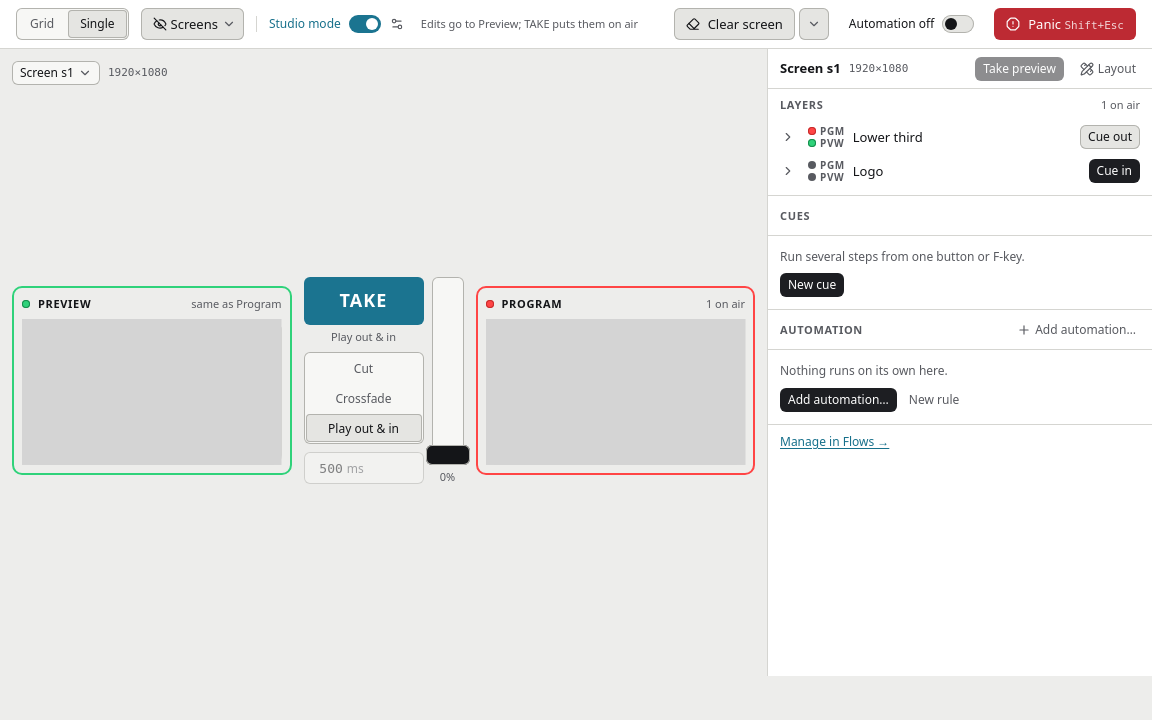
Test: Studio mode switch › a refusal because of a Preview it didn't know yet asks too
This screenshot has width=1152, height=720.
Click the switch named "Studio mode" next to "Studio mode".
click(365, 24)  # box [349,15,381,33]
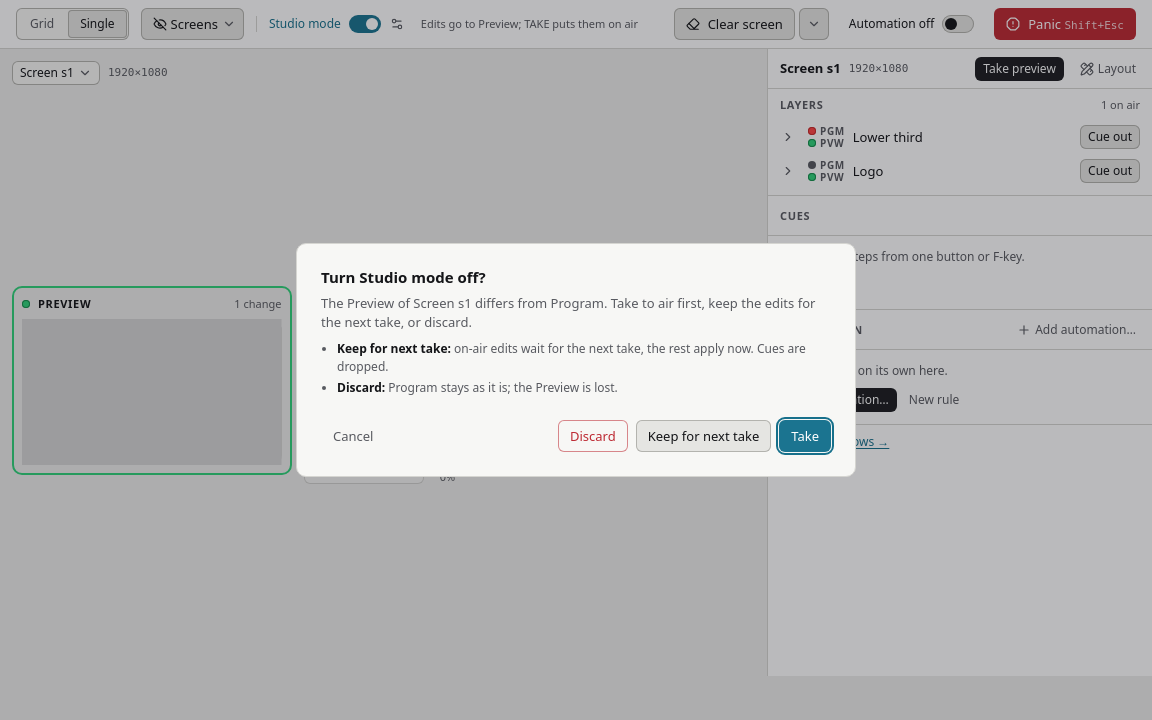
Expected: the dialog "Turn Studio mode off?" is shown, [296,243,856,477]
